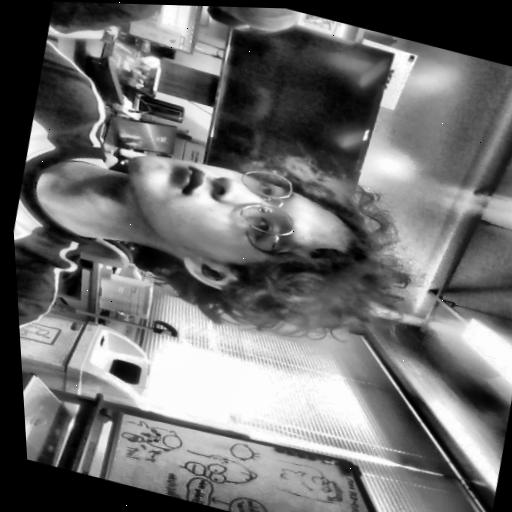Daifuku: (73, 121, 422, 385)
Not Daifuku: (179, 5, 309, 46)
